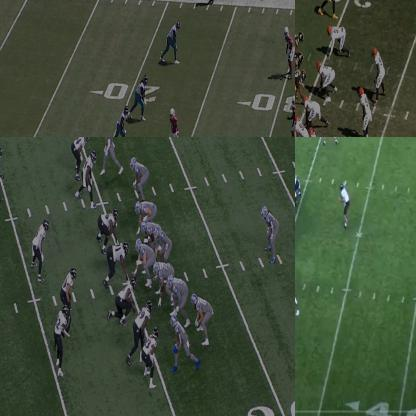CENTER: (136, 240, 152, 280), (295, 69, 309, 99)
DB: (140, 326, 159, 388), (56, 303, 68, 373), (72, 137, 89, 175), (284, 26, 293, 76), (0, 144, 4, 208), (290, 99, 294, 136)
LB: (30, 218, 49, 278), (133, 301, 151, 345), (373, 48, 387, 99), (358, 89, 373, 136), (59, 268, 77, 304), (84, 148, 98, 193), (169, 104, 179, 136)
QB: (156, 226, 172, 260), (340, 183, 350, 225)
SKILL: (170, 313, 200, 370), (260, 204, 280, 262), (192, 294, 213, 345), (132, 72, 150, 124), (131, 156, 149, 195), (101, 137, 119, 175), (164, 22, 180, 64), (111, 106, 129, 136), (324, 0, 339, 19)
